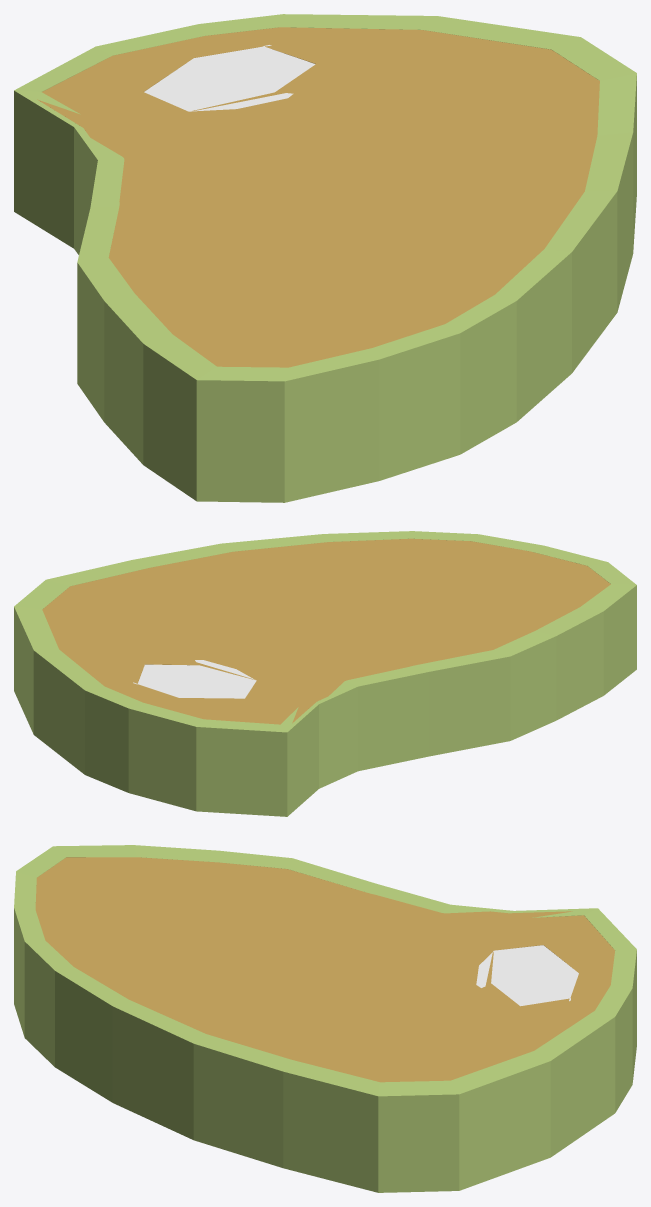
File: RareSteak.fbx
The picture shows the model from 3 angles, top to bottom: view 1: azimuth 30°, elevation 25°; view 2: azimuth 150°, elevation 25°; view 3: azimuth 270°, elevation 25°; orthographic projection. The views are drawn at different scales.
Visible parts, largest first — view 1: TheSteak; view 2: TheSteak; view 3: TheSteak.
Boxes of the visible parts, x1=… form: TheSteak: x1=14, y1=14, x2=636, y2=502; TheSteak: x1=14, y1=531, x2=636, y2=816; TheSteak: x1=14, y1=845, x2=636, y2=1192.
Size of the model in its own units: 99.36 by 17.89 by 104.
